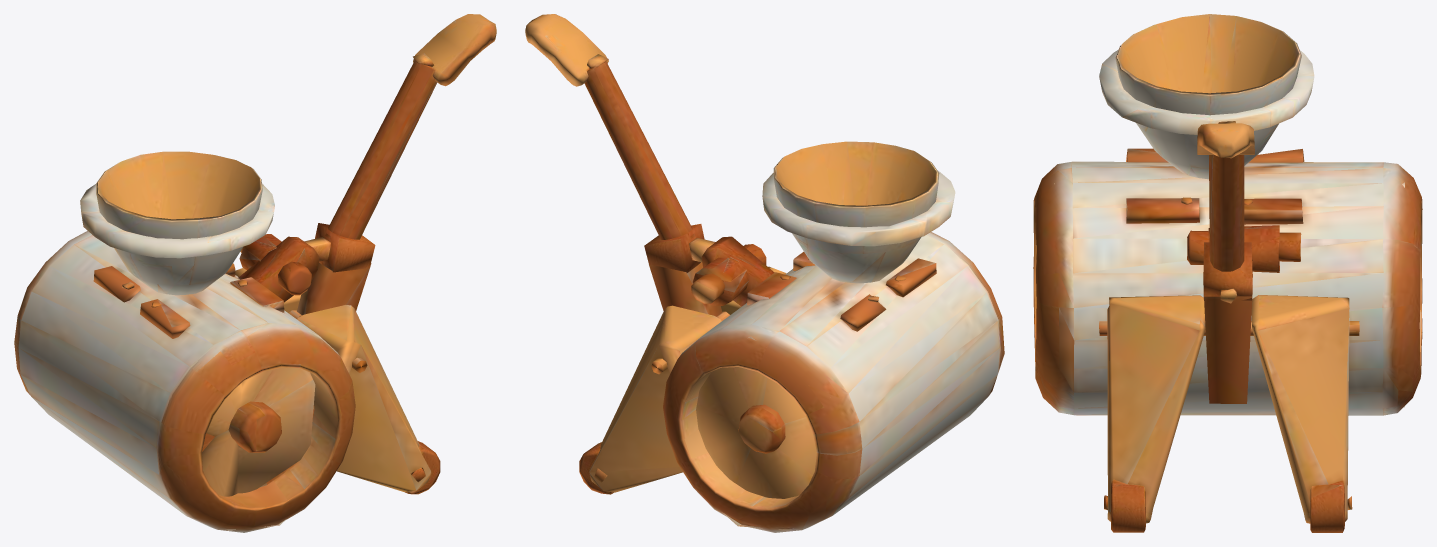
Rendered from mulcher.glb.
3 views of the same model, side by side, from view 1: azimuth 30°, elevation 25°; view 2: azimuth 150°, elevation 25°; view 3: azimuth 270°, elevation 25° (orthographic). The views are drawn at different scales.
Parts seen in each view (by area): view 1: drum, mulcher; view 2: drum, mulcher; view 3: mulcher, drum.
Part boxes in pixels (bbox=[...]): drum: bbox=[14, 231, 355, 532]; mulcher: bbox=[80, 14, 496, 494]; drum: bbox=[663, 232, 1004, 532]; mulcher: bbox=[525, 14, 955, 494]; mulcher: bbox=[1074, 14, 1382, 532]; drum: bbox=[1033, 148, 1422, 415].
Size of the model in its own units: 1 by 0.9756 by 0.7394.
Materials: 1 (1 with a texture image).
